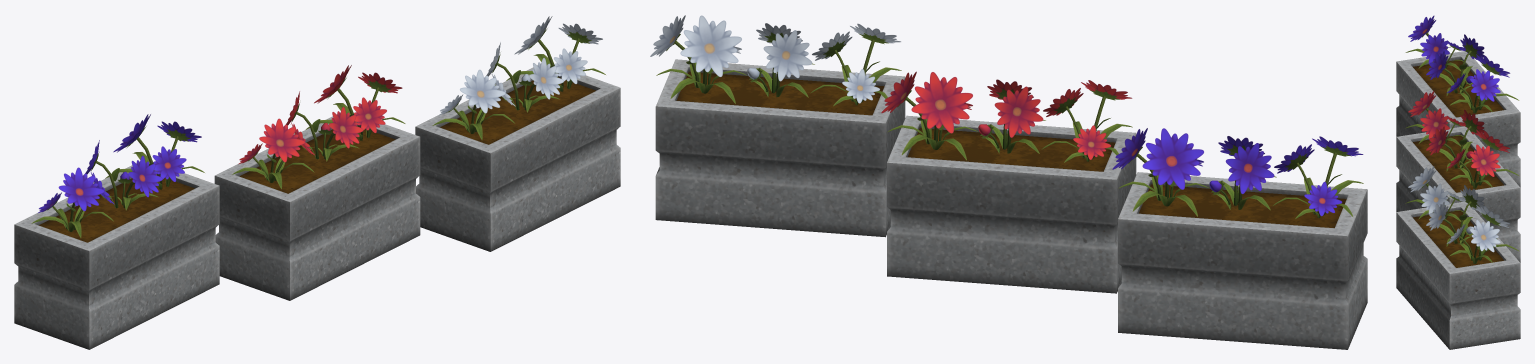
The model's file is flowers.glb.
The picture shows the model from 3 angles, left to right: view 1: azimuth 30°, elevation 25°; view 2: azimuth 150°, elevation 25°; view 3: azimuth 270°, elevation 25°; orthographic projection. The views are drawn at different scales.
Parts seen in each view (by area): view 1: pot_lod0_var2, pot_lod0, pot_lod0_var3, flower1_lod0_var2, flower1_lod0, flower1_lod0_var3, flower3_lod0_var2, flower3_lod0, flower3_lod0_var3, flower2_lod0_var2, flower2_lod0_var3, flower2_lod0; view 2: pot_lod0_var2, pot_lod0_var3, pot_lod0, flower3_lod0, flower3_lod0_var2, flower3_lod0_var3, flower2_lod0_var2, flower2_lod0, flower2_lod0_var3, flower1_lod0_var2, flower1_lod0_var3, flower1_lod0; view 3: pot_lod0_var3, pot_lod0, pot_lod0_var2, flower3_lod0, flower3_lod0_var2, flower3_lod0_var3, flower2_lod0_var2, flower2_lod0_var3, flower2_lod0, flower1_lod0_var2, flower1_lod0_var3, flower1_lod0.
Part boxes in pixels (bbox=[...]): pot_lod0_var2: bbox=[14, 161, 219, 349]; pot_lod0: bbox=[214, 112, 420, 300]; pot_lod0_var3: bbox=[415, 63, 620, 251]; flower1_lod0_var2: bbox=[31, 167, 114, 237]; flower1_lod0: bbox=[232, 118, 314, 188]; flower1_lod0_var3: bbox=[432, 69, 515, 139]; flower3_lod0_var2: bbox=[105, 114, 204, 189]; flower3_lod0: bbox=[305, 65, 405, 140]; flower3_lod0_var3: bbox=[506, 16, 605, 91]; flower2_lod0_var2: bbox=[85, 140, 162, 210]; flower2_lod0_var3: bbox=[486, 42, 563, 112]; flower2_lod0: bbox=[285, 91, 363, 161]; pot_lod0_var2: bbox=[1118, 172, 1367, 349]; pot_lod0_var3: bbox=[655, 59, 905, 237]; pot_lod0: bbox=[887, 115, 1136, 293]; flower3_lod0: bbox=[881, 71, 977, 160]; flower3_lod0_var2: bbox=[1112, 128, 1208, 216]; flower3_lod0_var3: bbox=[650, 15, 746, 103]; flower2_lod0_var2: bbox=[1209, 136, 1276, 210]; flower2_lod0: bbox=[978, 79, 1045, 153]; flower2_lod0_var3: bbox=[747, 23, 814, 97]; flower1_lod0_var2: bbox=[1273, 136, 1363, 218]; flower1_lod0_var3: bbox=[810, 23, 901, 106]; flower1_lod0: bbox=[1041, 80, 1132, 162]; pot_lod0_var3: bbox=[1396, 201, 1520, 349]; pot_lod0: bbox=[1396, 126, 1520, 262]; pot_lod0_var2: bbox=[1396, 51, 1520, 187]; flower3_lod0: bbox=[1446, 129, 1518, 188]; flower3_lod0_var2: bbox=[1446, 54, 1519, 113]; flower3_lod0_var3: bbox=[1446, 205, 1519, 263]; flower2_lod0_var2: bbox=[1426, 34, 1484, 95]; flower2_lod0_var3: bbox=[1426, 185, 1484, 246]; flower2_lod0: bbox=[1426, 109, 1484, 171]; flower1_lod0_var2: bbox=[1405, 15, 1466, 70]; flower1_lod0_var3: bbox=[1405, 166, 1467, 221]; flower1_lod0: bbox=[1405, 91, 1467, 146].
Bounding box in the file's own units: 5.04 × 1.34 × 1.19.
Materials: 4 (4 with a texture image).
